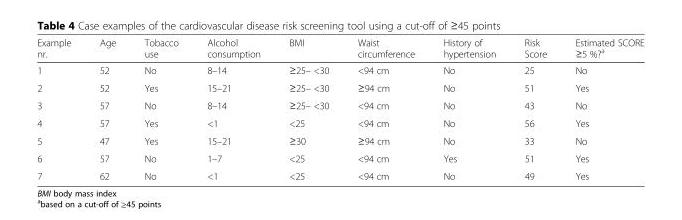table: (36, 36, 643, 181)
table column: (342, 36, 428, 181), (560, 36, 643, 181), (192, 36, 274, 181), (428, 36, 509, 181), (274, 36, 342, 181), (129, 36, 192, 181), (509, 36, 560, 181), (36, 36, 84, 181), (84, 36, 129, 181)
table column header: (36, 36, 643, 61)
table row: (36, 36, 643, 61), (36, 78, 643, 96), (36, 96, 643, 114), (36, 131, 643, 149), (36, 61, 643, 78), (36, 114, 643, 131), (36, 149, 643, 166), (36, 166, 643, 181)
